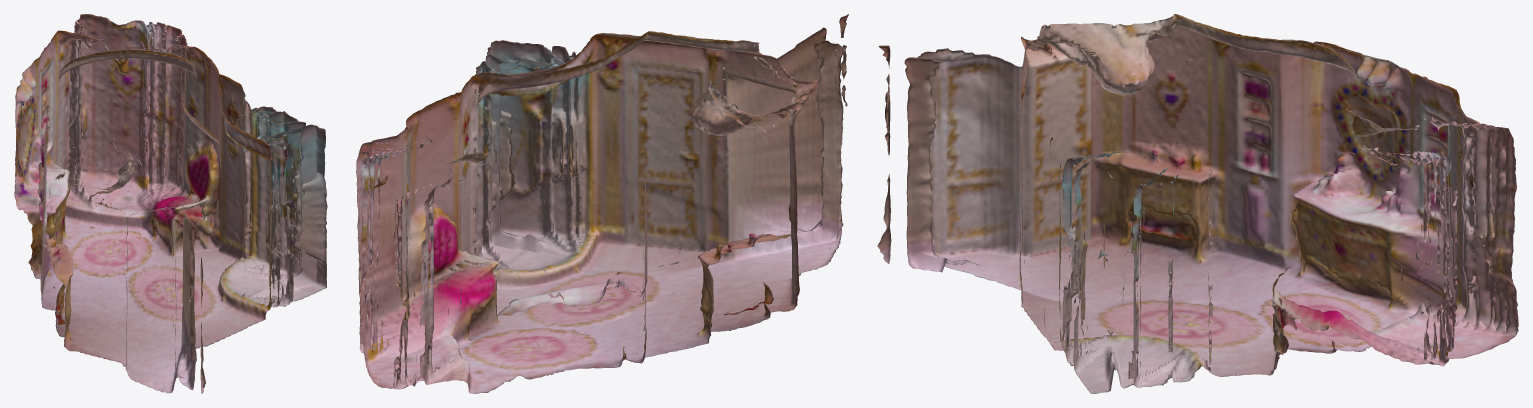
Rendered from jewel-princess-bathroom-1-1-E_collider - Copy.glb.
3 renders of one model, left to right at view 1: azimuth 30°, elevation 25°; view 2: azimuth 150°, elevation 25°; view 3: azimuth 270°, elevation 25°, orthographic. The views are drawn at different scales.
Parts seen in each view (by area): view 1: world; view 2: world; view 3: world.
Boxes of the visible parts, x1,y1,x2,y2 form: world: [14, 14, 327, 393]; world: [356, 14, 848, 393]; world: [877, 14, 1518, 393].
Size of the model in its own units: 3.94 by 2.92 by 6.68.
